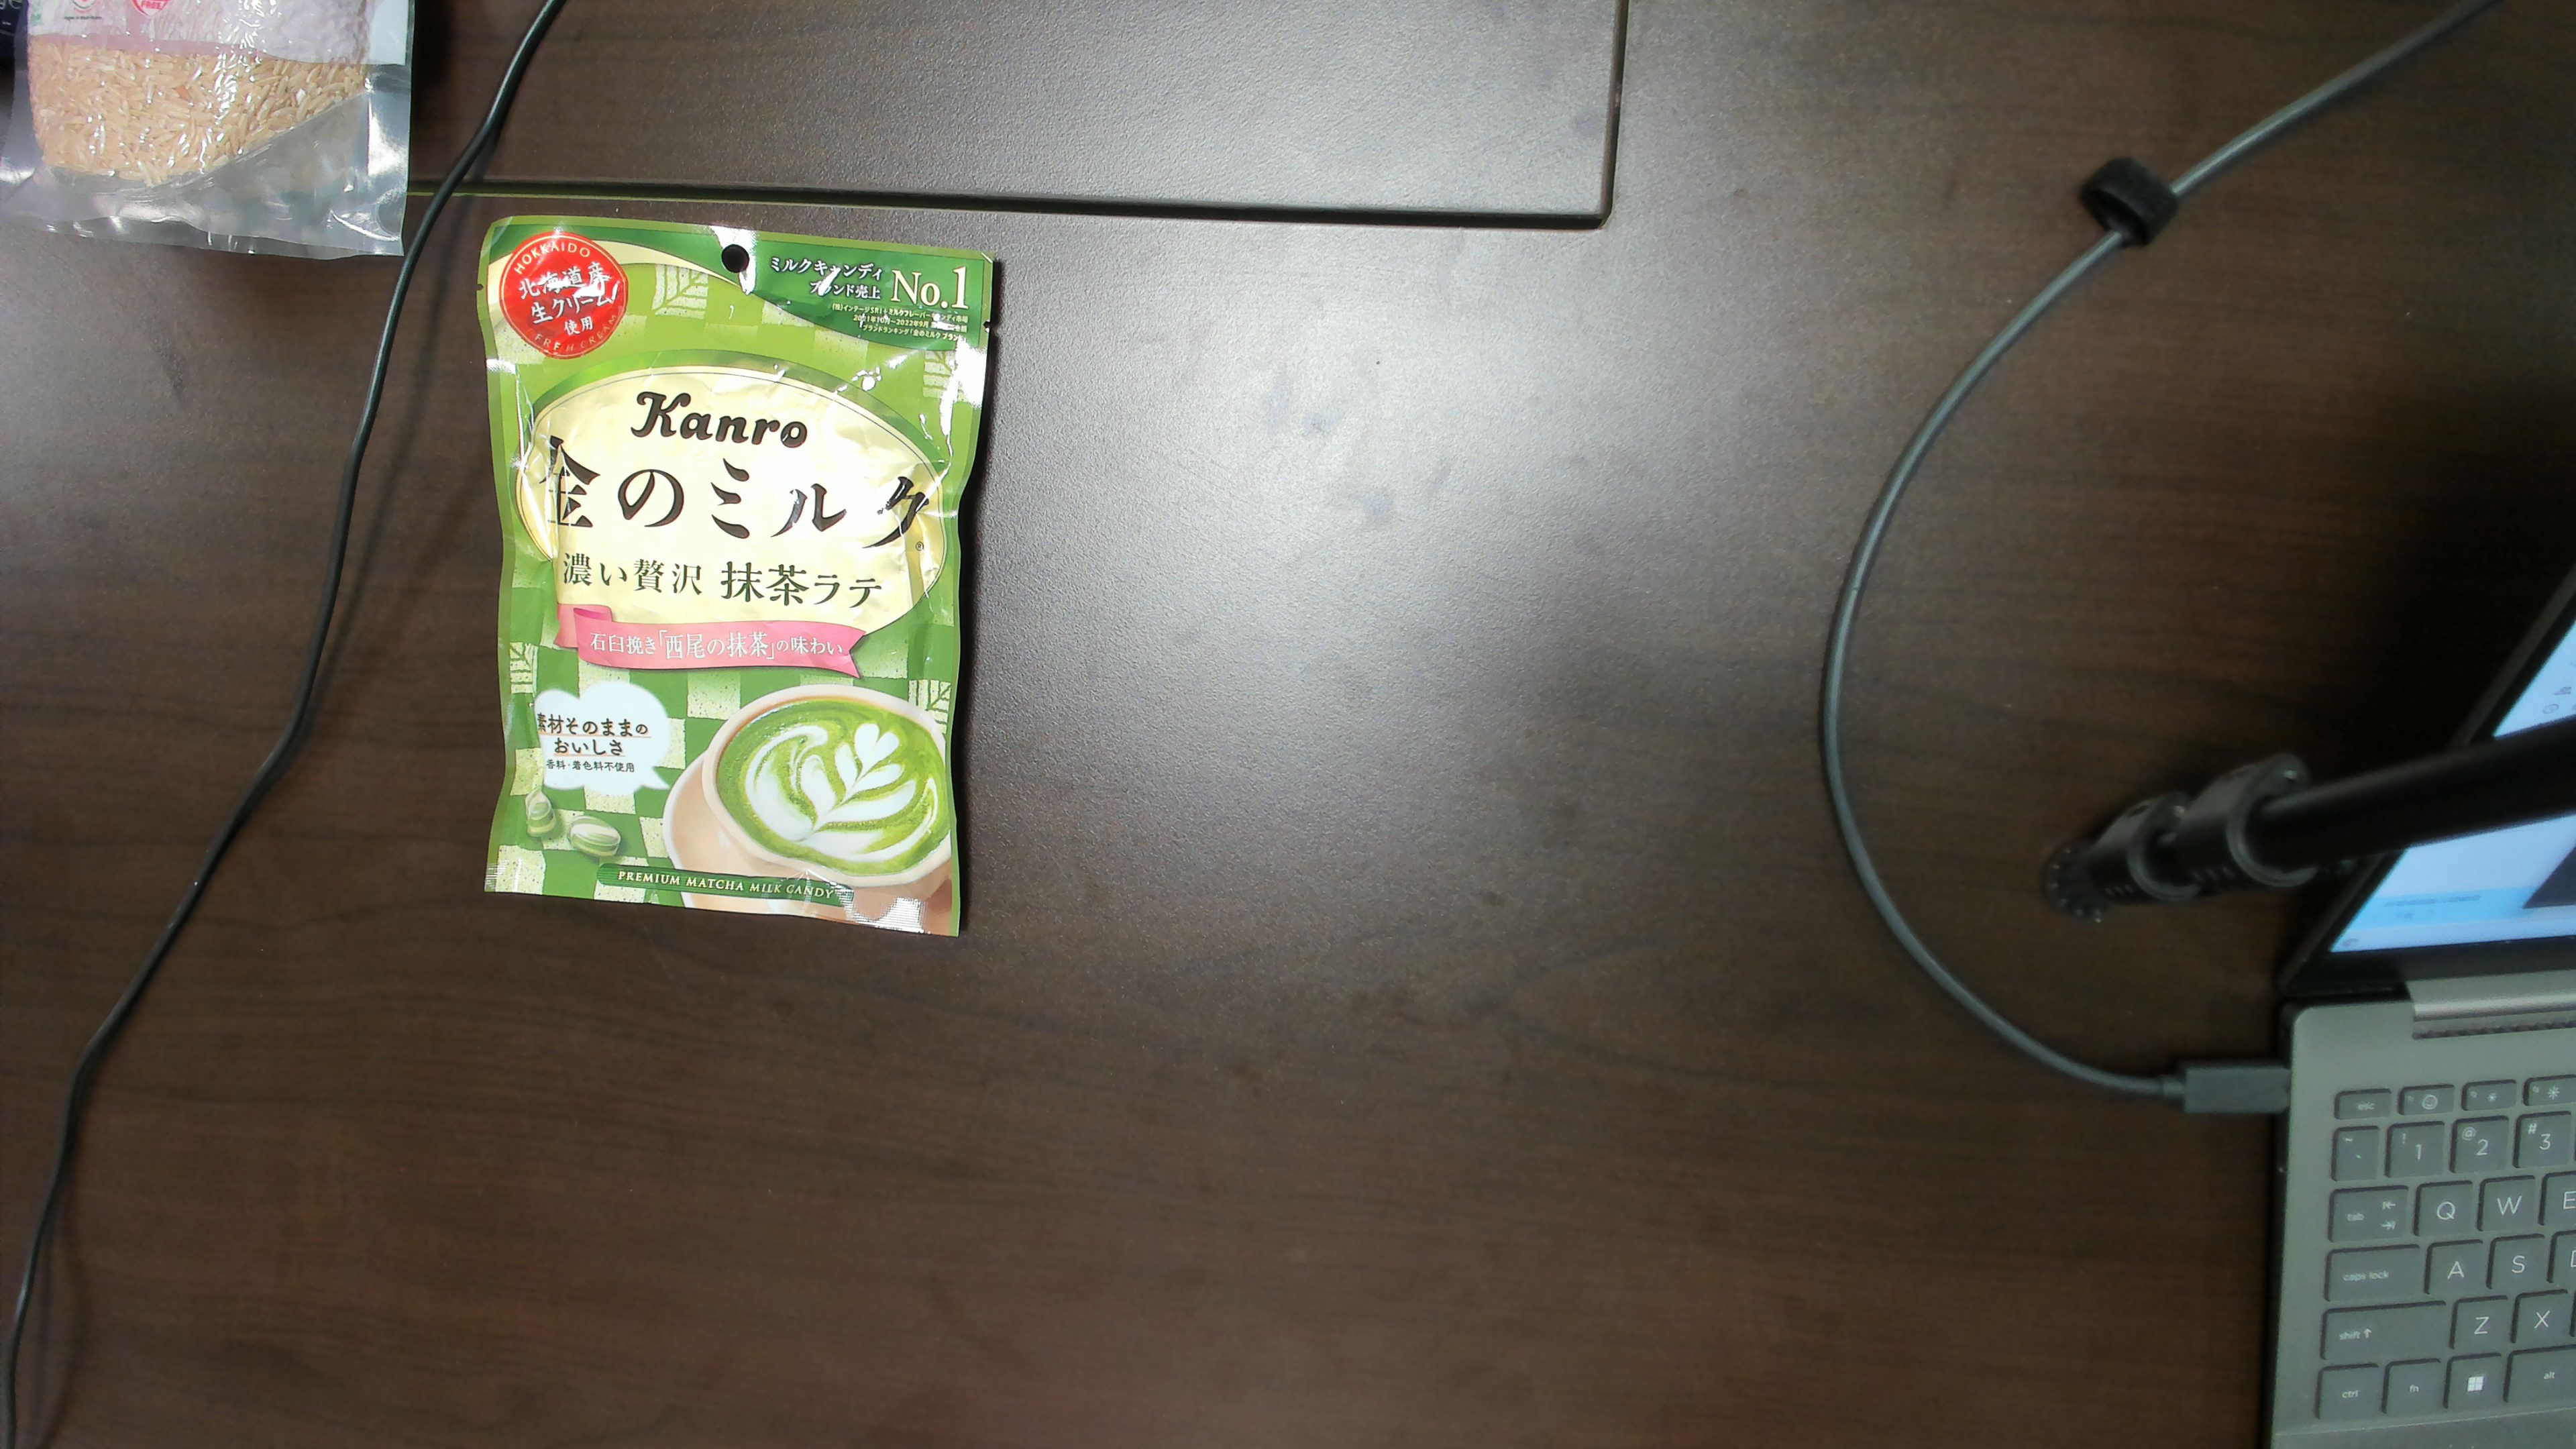SweetsChocolatesOthers_100-199g_NonHalal_NonHealthy: (502, 239, 962, 920)
